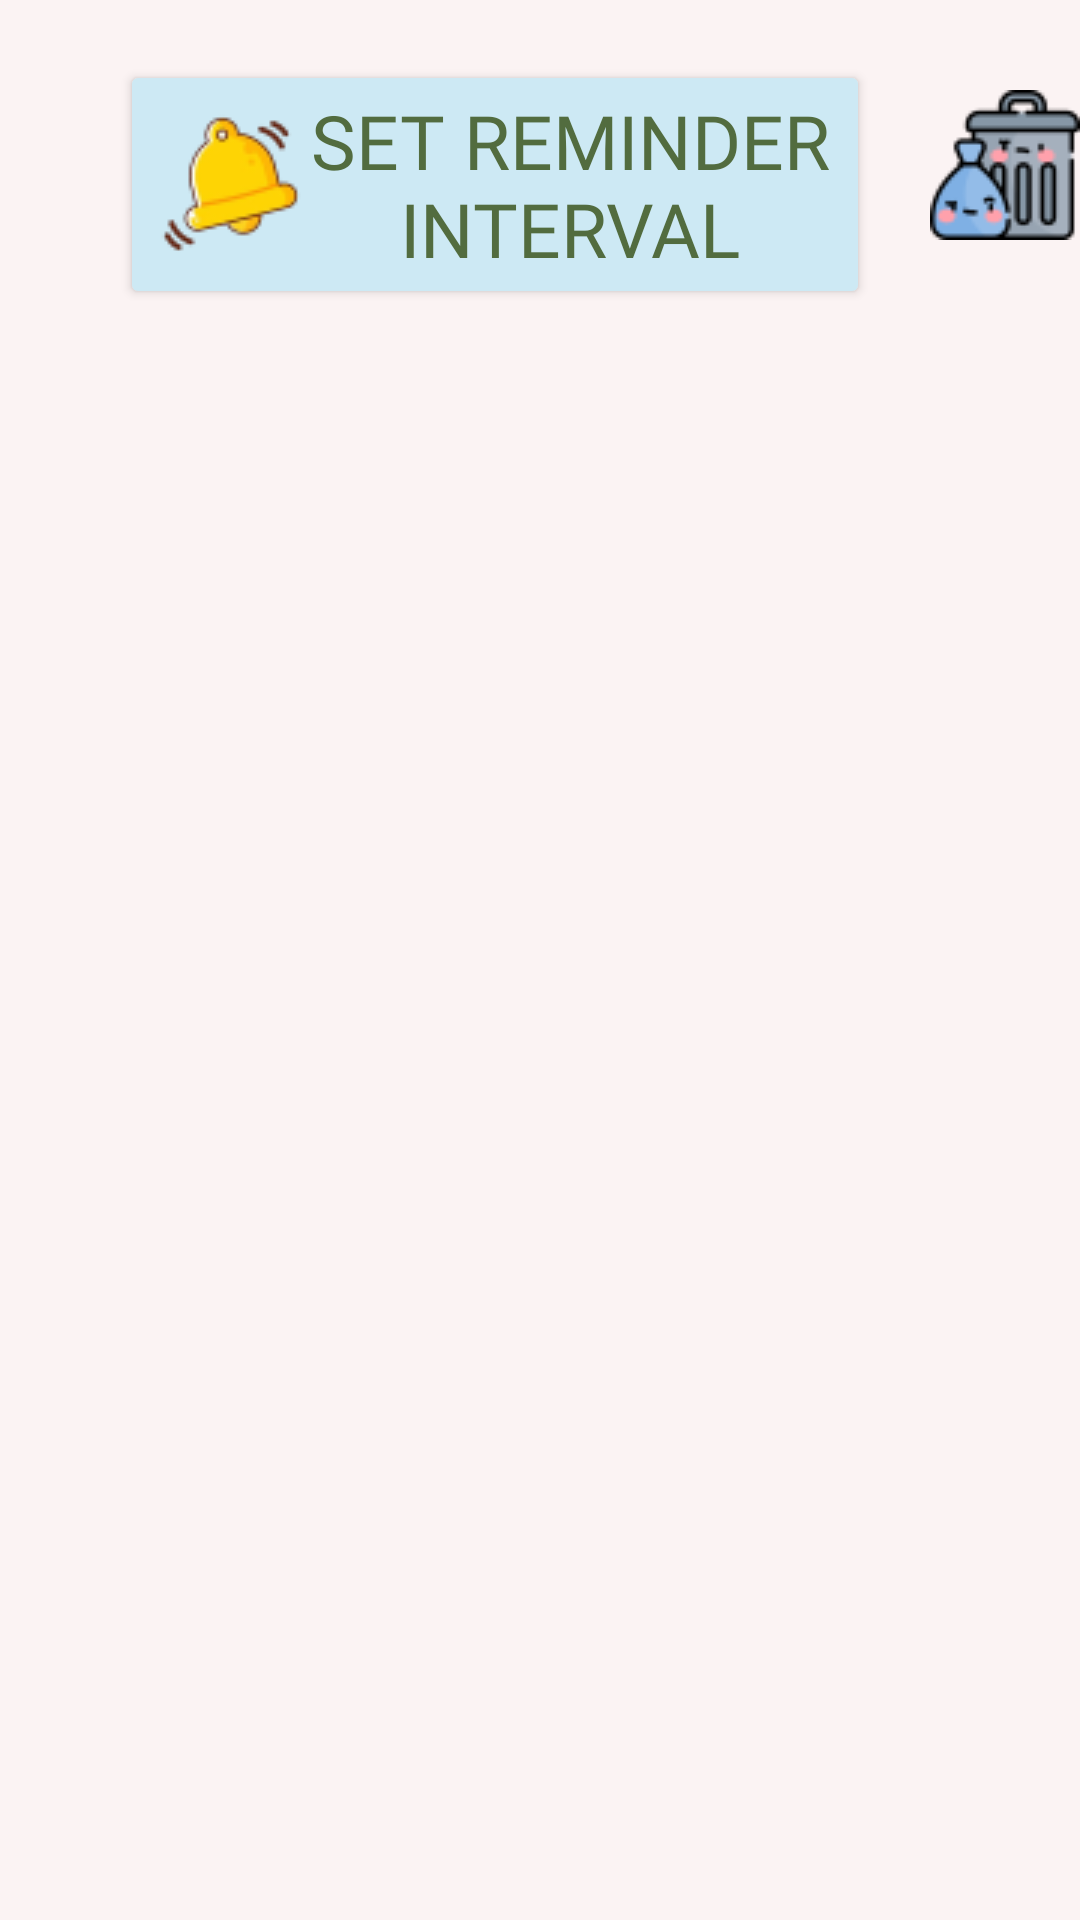

Where icons sit on this 1080 x 1920 app screen, as (x1, y1, x2, y2):
bin: (930, 90, 1080, 240)
